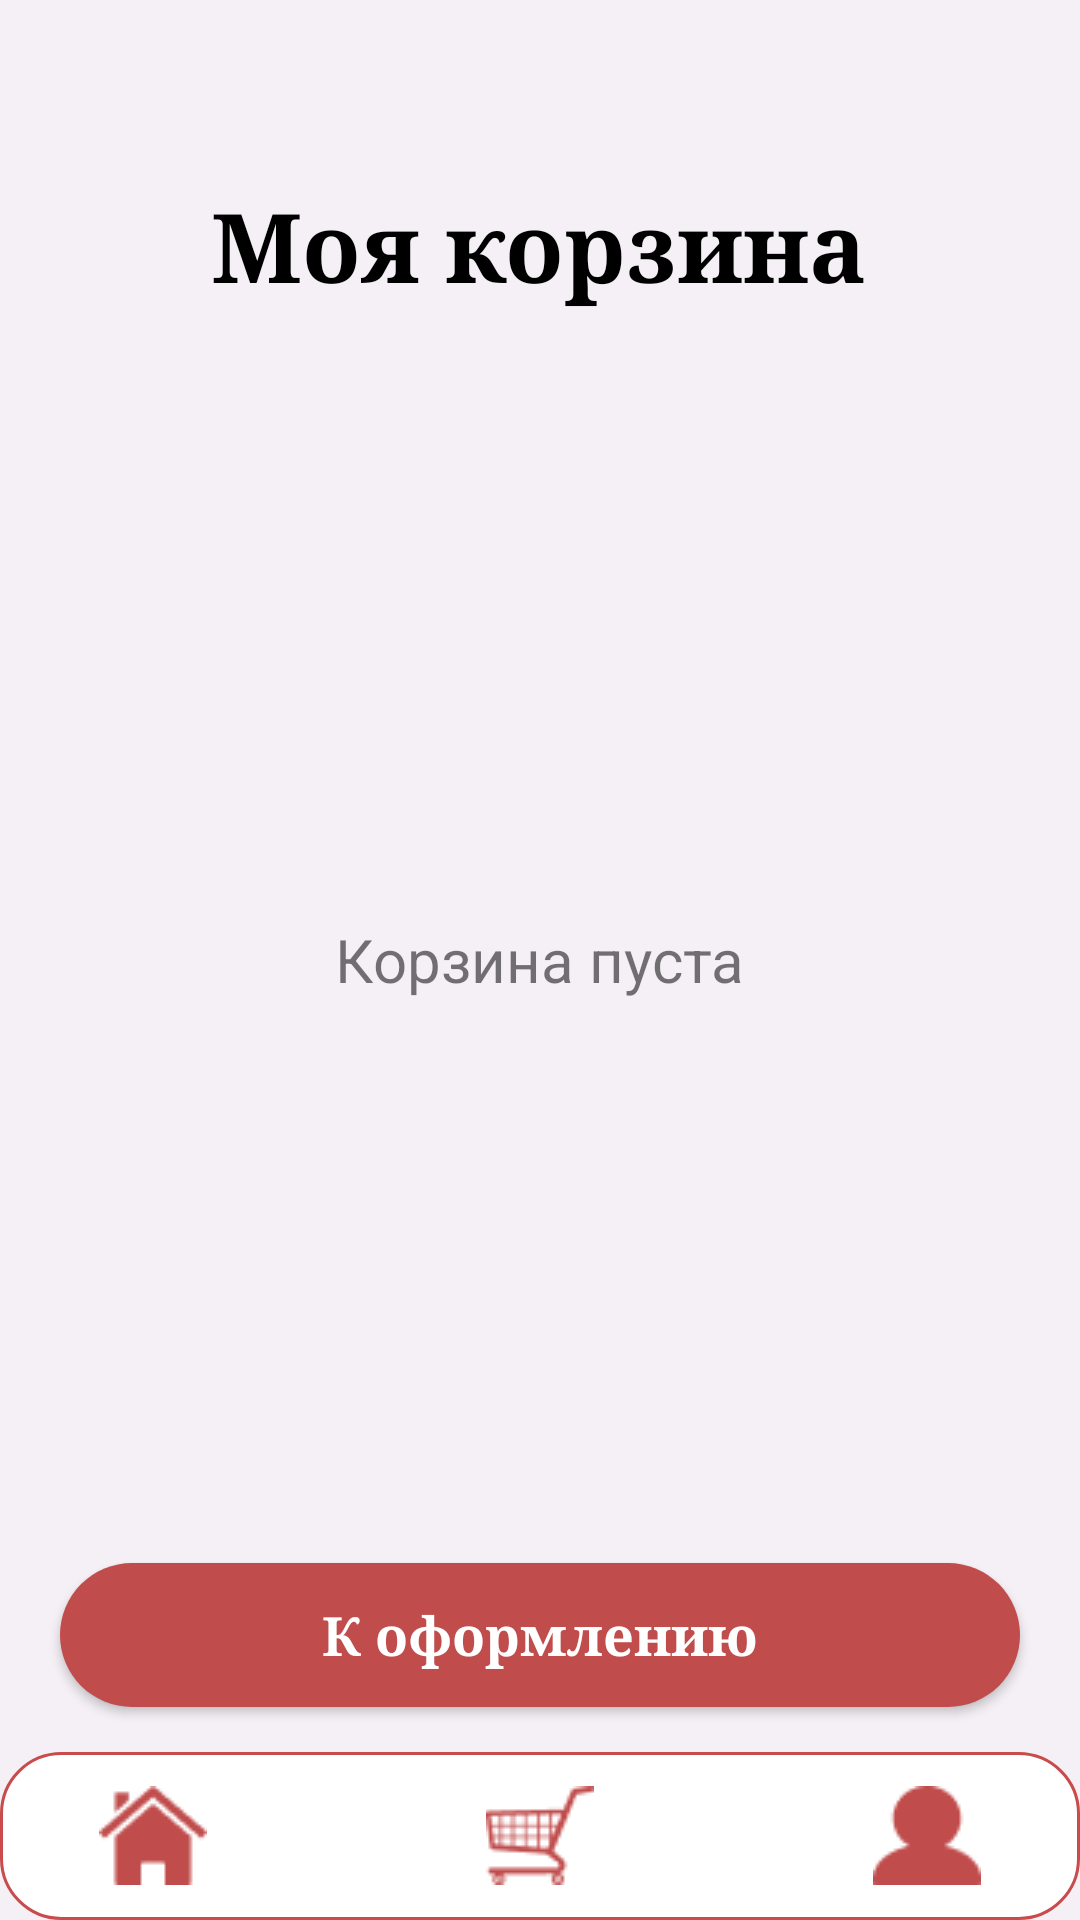

Point at icon controls on the screen. Image size 1080×1920, points as point (x, y).
cart: point (540, 1835)
home: point (153, 1835)
profile: point (927, 1835)
